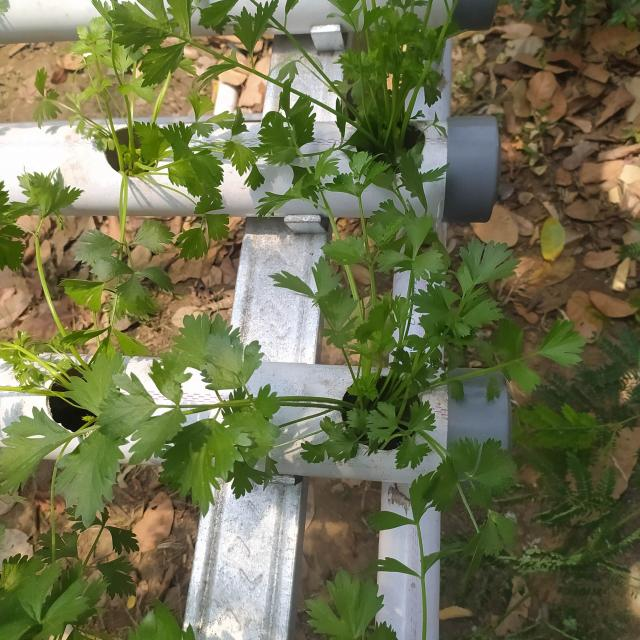Wet Waste: (206, 124, 527, 339), (13, 193, 191, 528), (344, 373, 525, 634)
